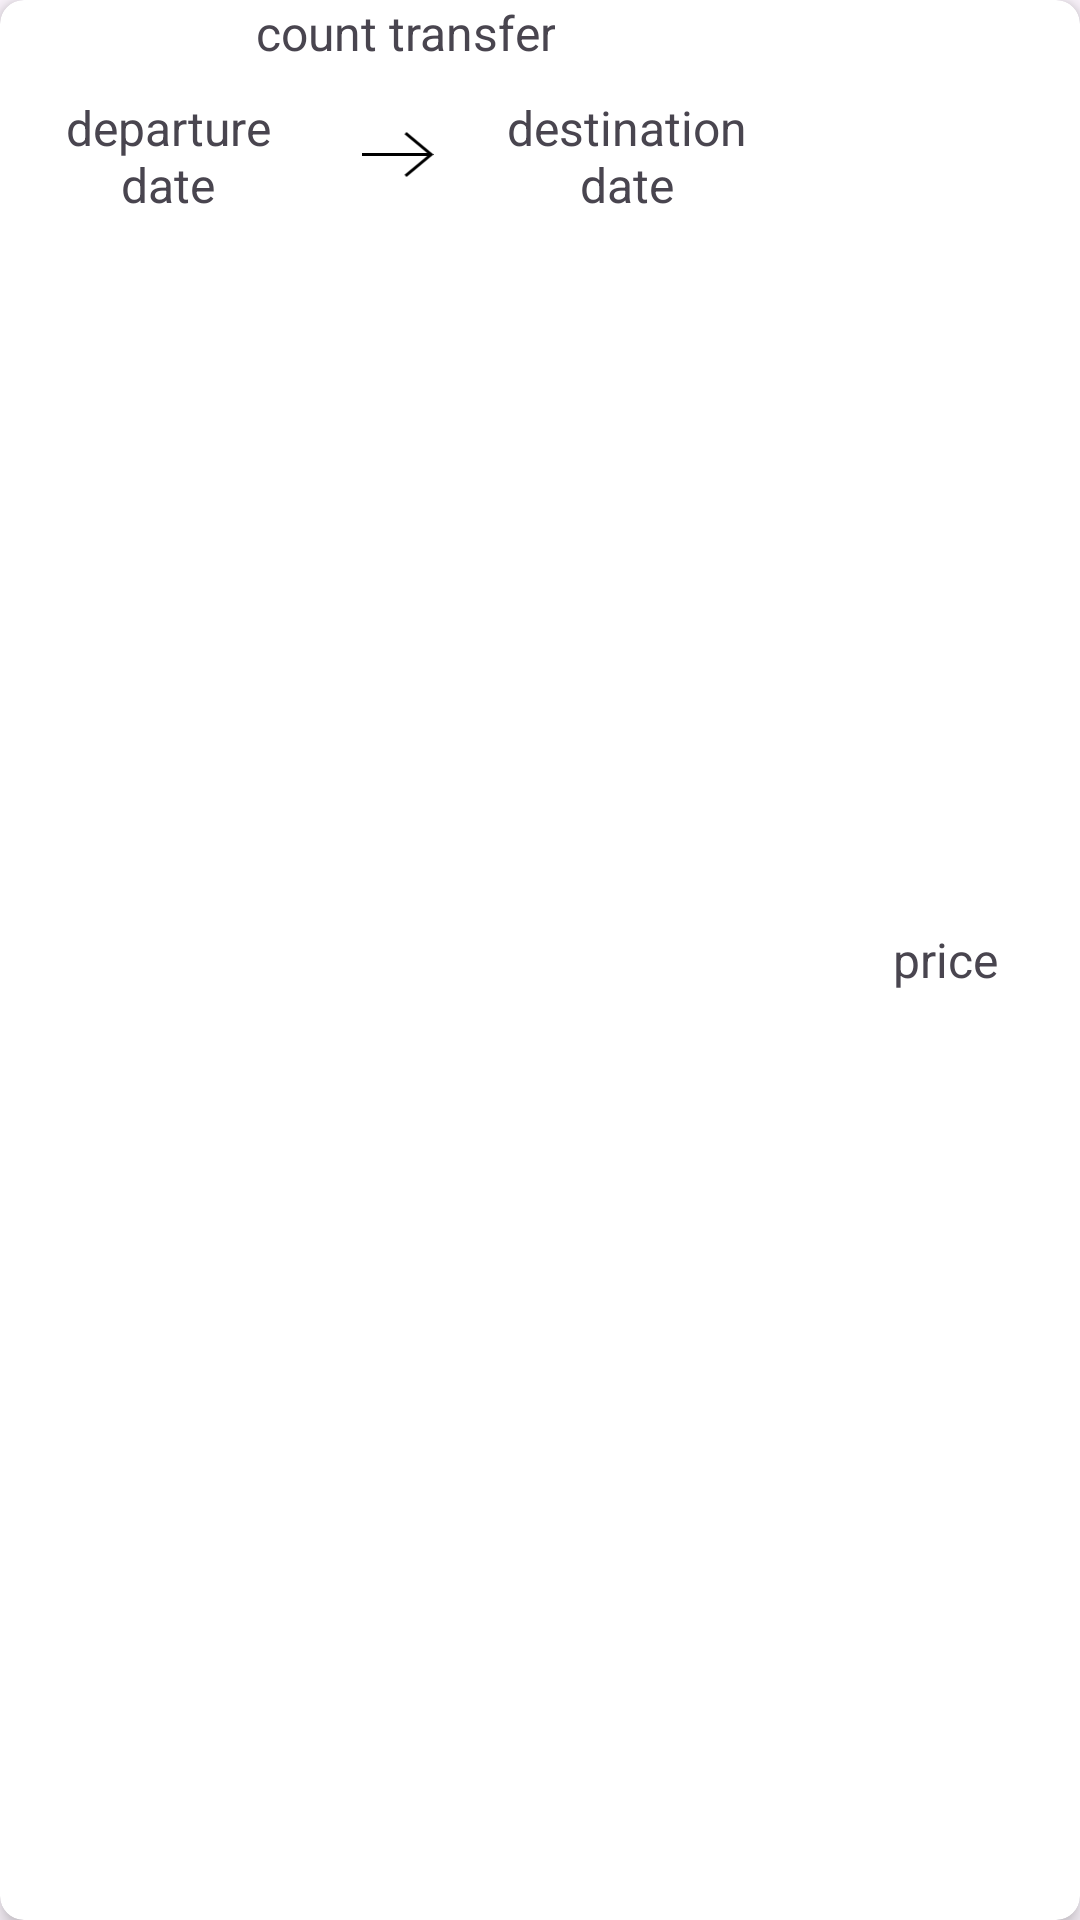

Icon bounding boxes for this 1080px×1920px phone screenshot, format (x1, y1, x2, y2):
arrow right: (362, 132, 434, 177)
